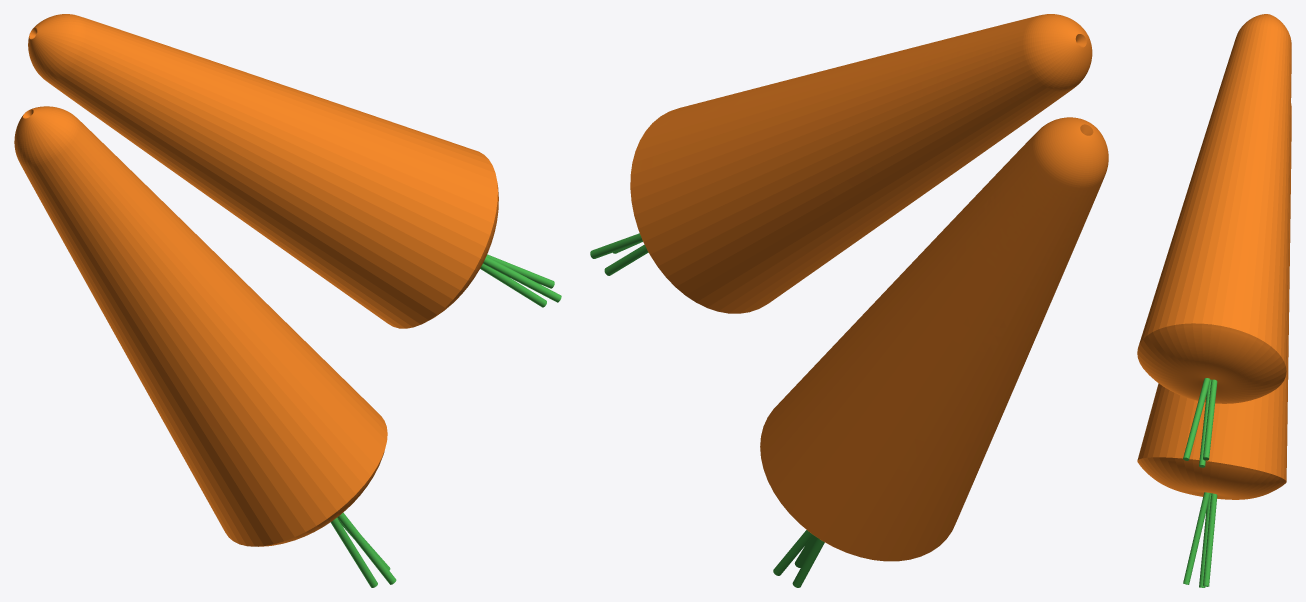
The model's file is tinker.obj.
The picture shows the model from 3 angles, left to right: view 1: azimuth 30°, elevation 25°; view 2: azimuth 150°, elevation 25°; view 3: azimuth 270°, elevation 25°; orthographic projection. The views are drawn at different scales.
Parts seen in each view (by area): view 1: obj_4, obj_0, obj_5, obj_1; view 2: obj_4, obj_0; view 3: obj_0, obj_4, obj_5, obj_6, obj_1, obj_2, obj_7, obj_3.
Boxes of the visible parts, x1,y1,x2,y2 form: obj_4: (14,106,387,546); obj_0: (28,14,498,328); obj_5: (337,512,396,584); obj_1: (483,256,561,302); obj_4: (760,117,1108,561); obj_0: (630,14,1092,313); obj_0: (1137,14,1291,403); obj_4: (1137,103,1291,499); obj_5: (1183,492,1210,584); obj_6: (1203,493,1217,586); obj_1: (1183,378,1210,460); obj_2: (1203,379,1217,460); obj_7: (1199,493,1211,587); obj_3: (1199,380,1211,467).
Bounding box in the file's own units: 12.02 × 14 × 4.18.
